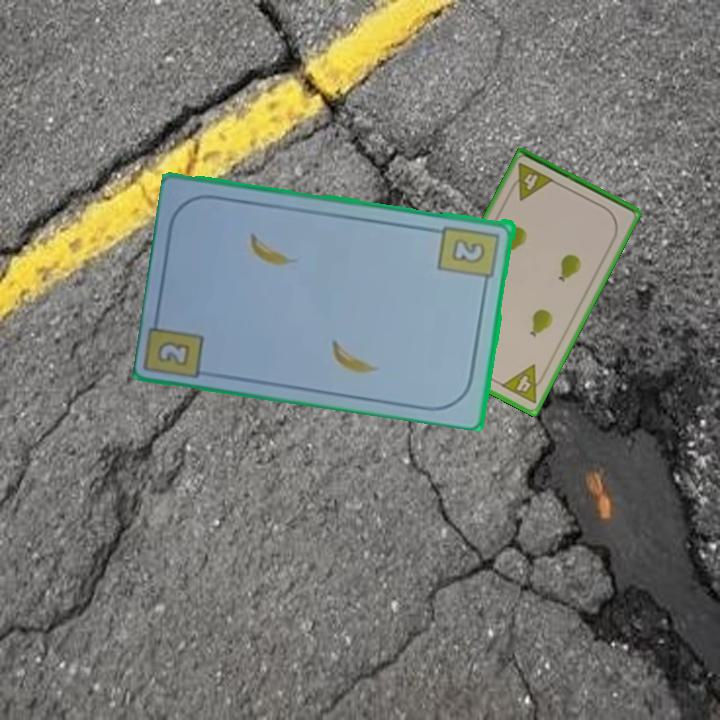2b: (436, 222, 503, 290), (153, 337, 194, 369)
4p: (497, 361, 550, 407), (505, 160, 557, 203)
